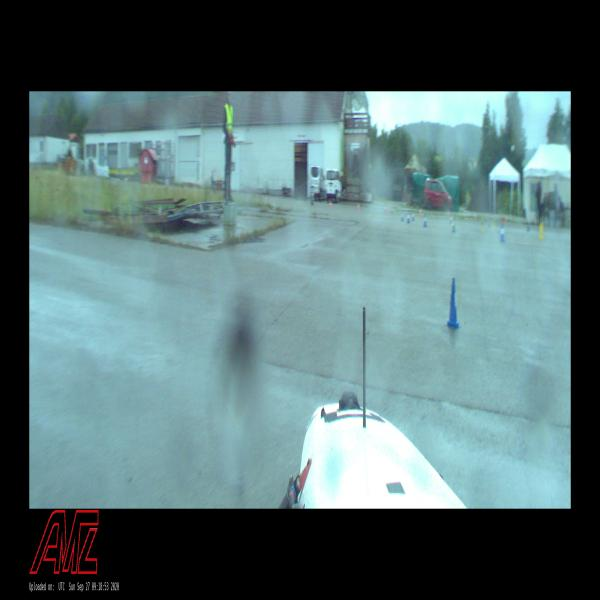blue_cone: (446, 278, 461, 329), (500, 224, 505, 243), (452, 217, 455, 233), (424, 215, 427, 228), (407, 212, 410, 224), (401, 211, 404, 222), (411, 211, 414, 221), (449, 214, 452, 224), (528, 222, 530, 232)
orange_cone: (384, 202, 387, 213), (329, 199, 332, 208), (357, 202, 360, 210), (447, 209, 449, 219)
yellow_cone: (539, 224, 543, 240), (481, 218, 484, 231)
